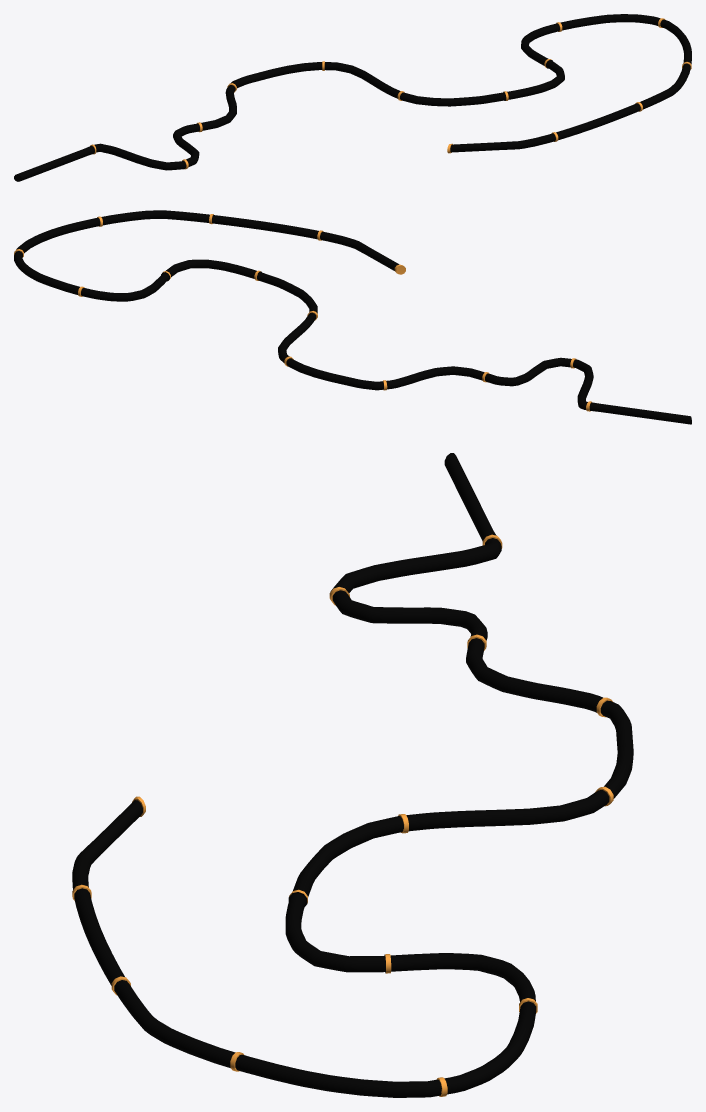
Rendered from Cable.fbx.
3 views of the same model, one above another, from view 1: azimuth 30°, elevation 25°; view 2: azimuth 150°, elevation 25°; view 3: azimuth 270°, elevation 25° (orthographic). The views are drawn at different scales.
Visible parts, largest first — view 1: Cylinder.001; view 2: Cylinder.001; view 3: Cylinder.001.
Boxes of the visible parts, x1=… form: Cylinder.001: x1=14, y1=14, x2=691, y2=181; Cylinder.001: x1=14, y1=210, x2=691, y2=424; Cylinder.001: x1=72, y1=453, x2=633, y2=1097.
Bounding box in the file's own units: 10.37 × 0.1364 × 3.88.
